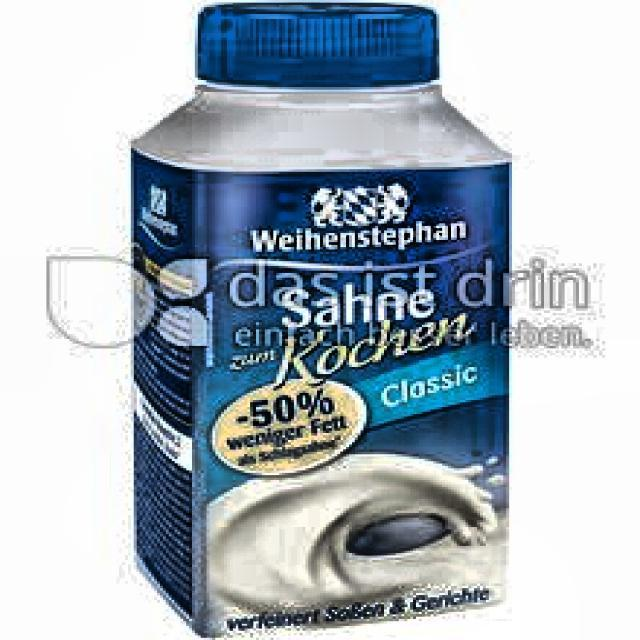cardboard: (125, 0, 512, 638)
